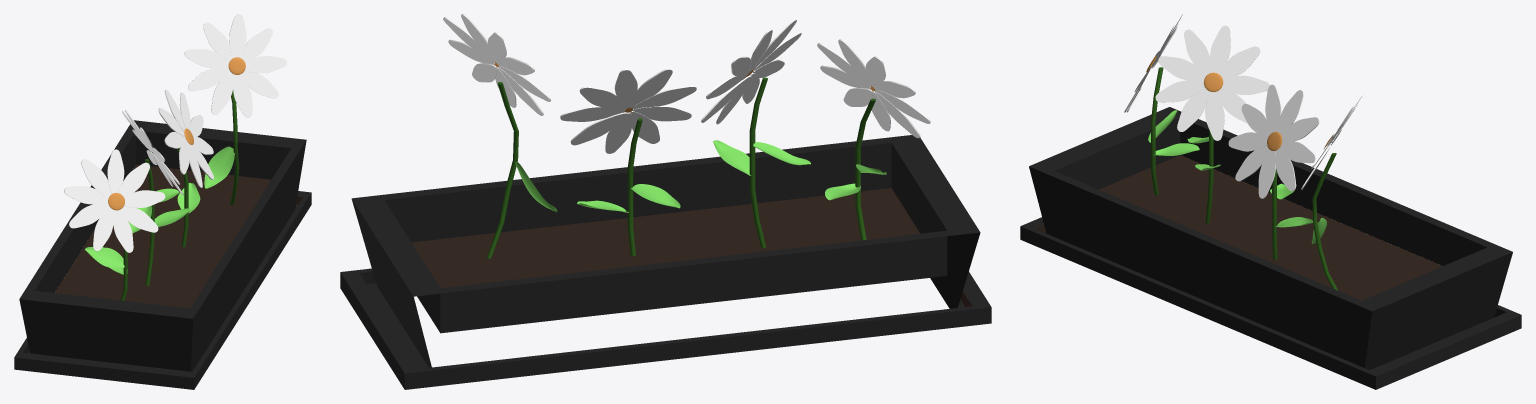
File: SupportFlower.gltf
The picture shows the model from 3 angles, left to right: view 1: azimuth 30°, elevation 25°; view 2: azimuth 150°, elevation 25°; view 3: azimuth 270°, elevation 25°; orthographic projection. The views are drawn at different scales.
Visible parts, largest first — view 1: Flowers; view 2: Flowers; view 3: Flowers.
Part boxes in pixels (box(x1,y1,x2,y2)): Flowers: box(14, 14, 311, 389); Flowers: box(340, 14, 991, 389); Flowers: box(1020, 14, 1521, 389).
Bounding box in the file's own units: 1.93 × 1.02 × 1.93.
